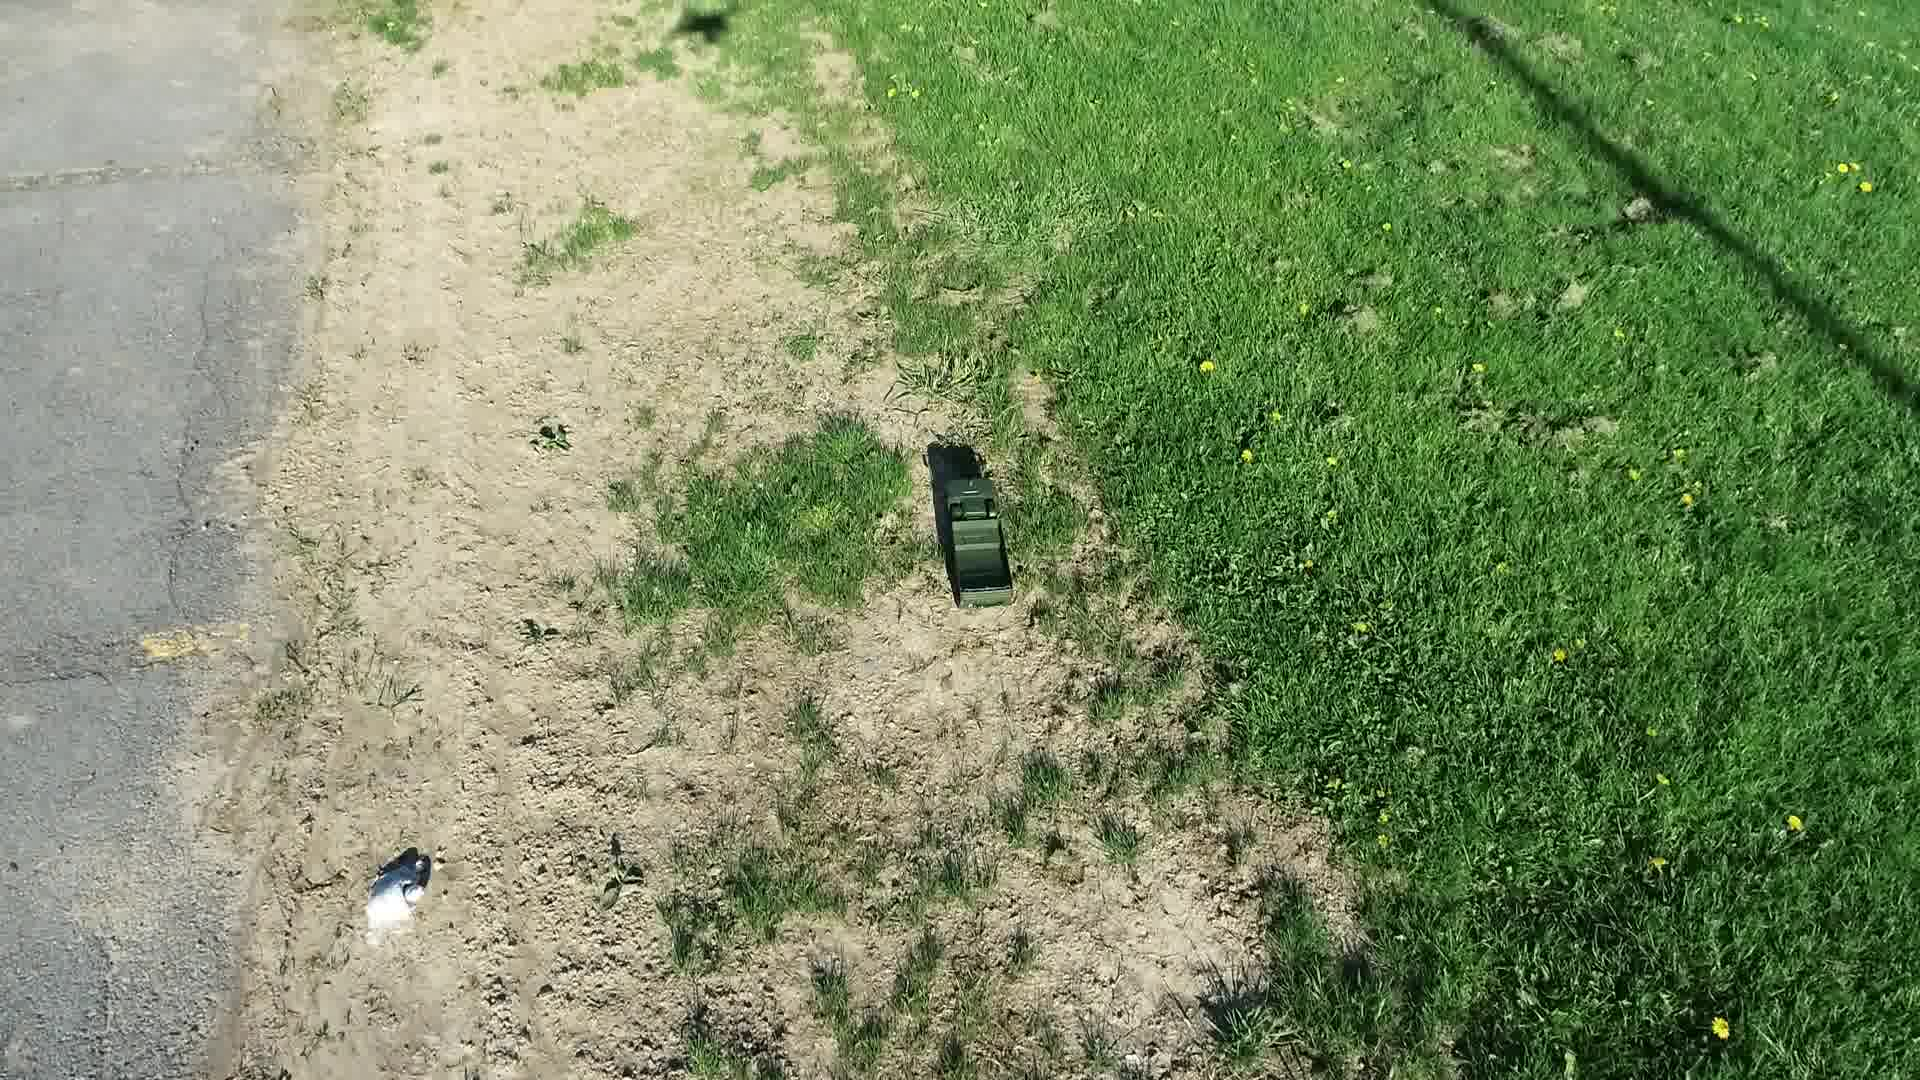transporter9: (932, 465, 1031, 622)
